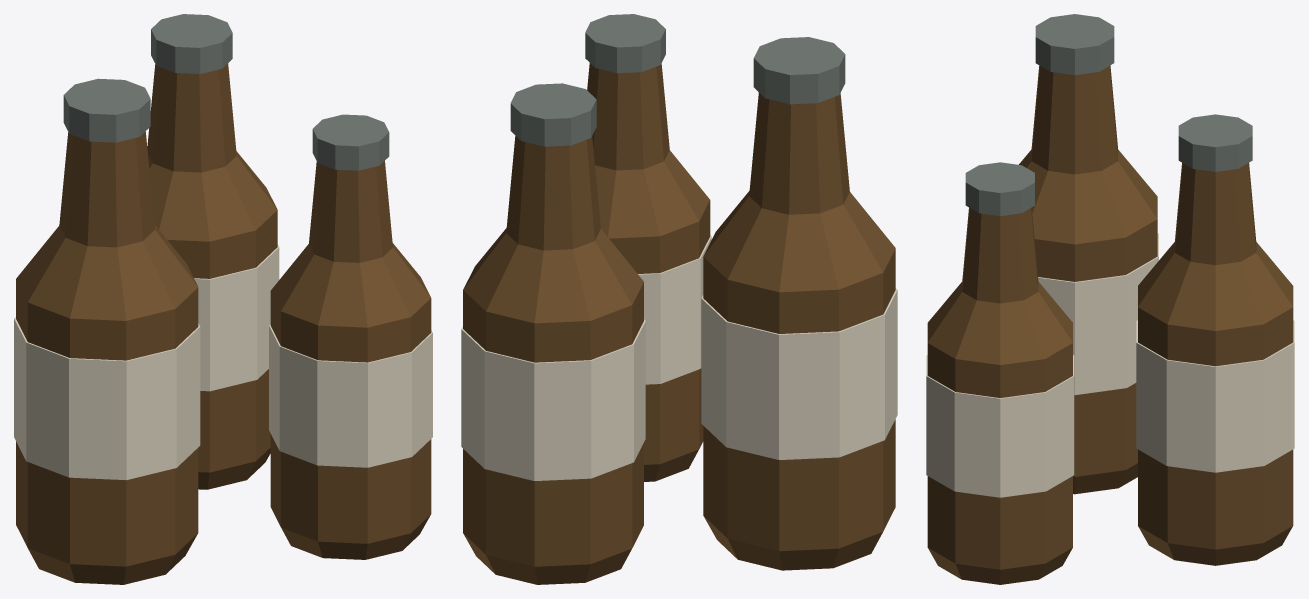
The model's file is bottle-cluster.glb.
3 renders of one model, left to right at view 1: azimuth 30°, elevation 25°; view 2: azimuth 150°, elevation 25°; view 3: azimuth 270°, elevation 25°, orthographic. The views are drawn at different scales.
Visible parts, largest first — view 1: bottle-cluster; view 2: bottle-cluster; view 3: bottle-cluster.
Boxes of the visible parts, x1=… form: bottle-cluster: x1=14, y1=14, x2=432, y2=584; bottle-cluster: x1=461, y1=14, x2=897, y2=584; bottle-cluster: x1=926, y1=14, x2=1294, y2=584.
Bounding box in the file's own units: 0.4712 × 0.575 × 0.4452.
